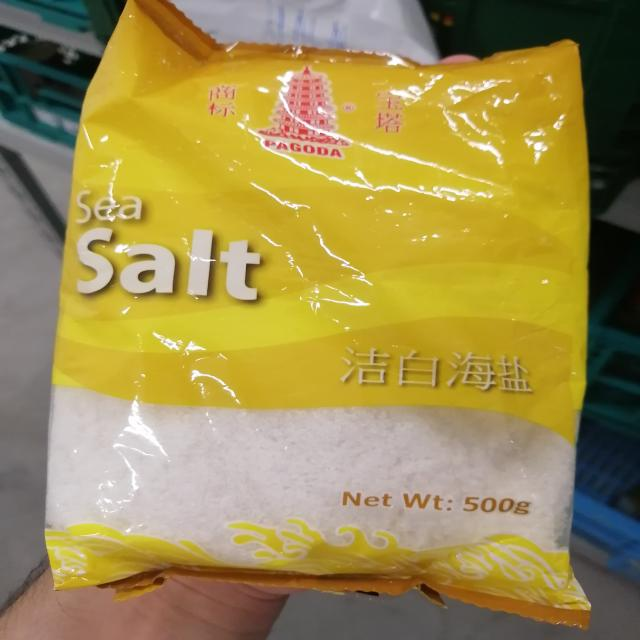object_name: (87, 41, 569, 595)
